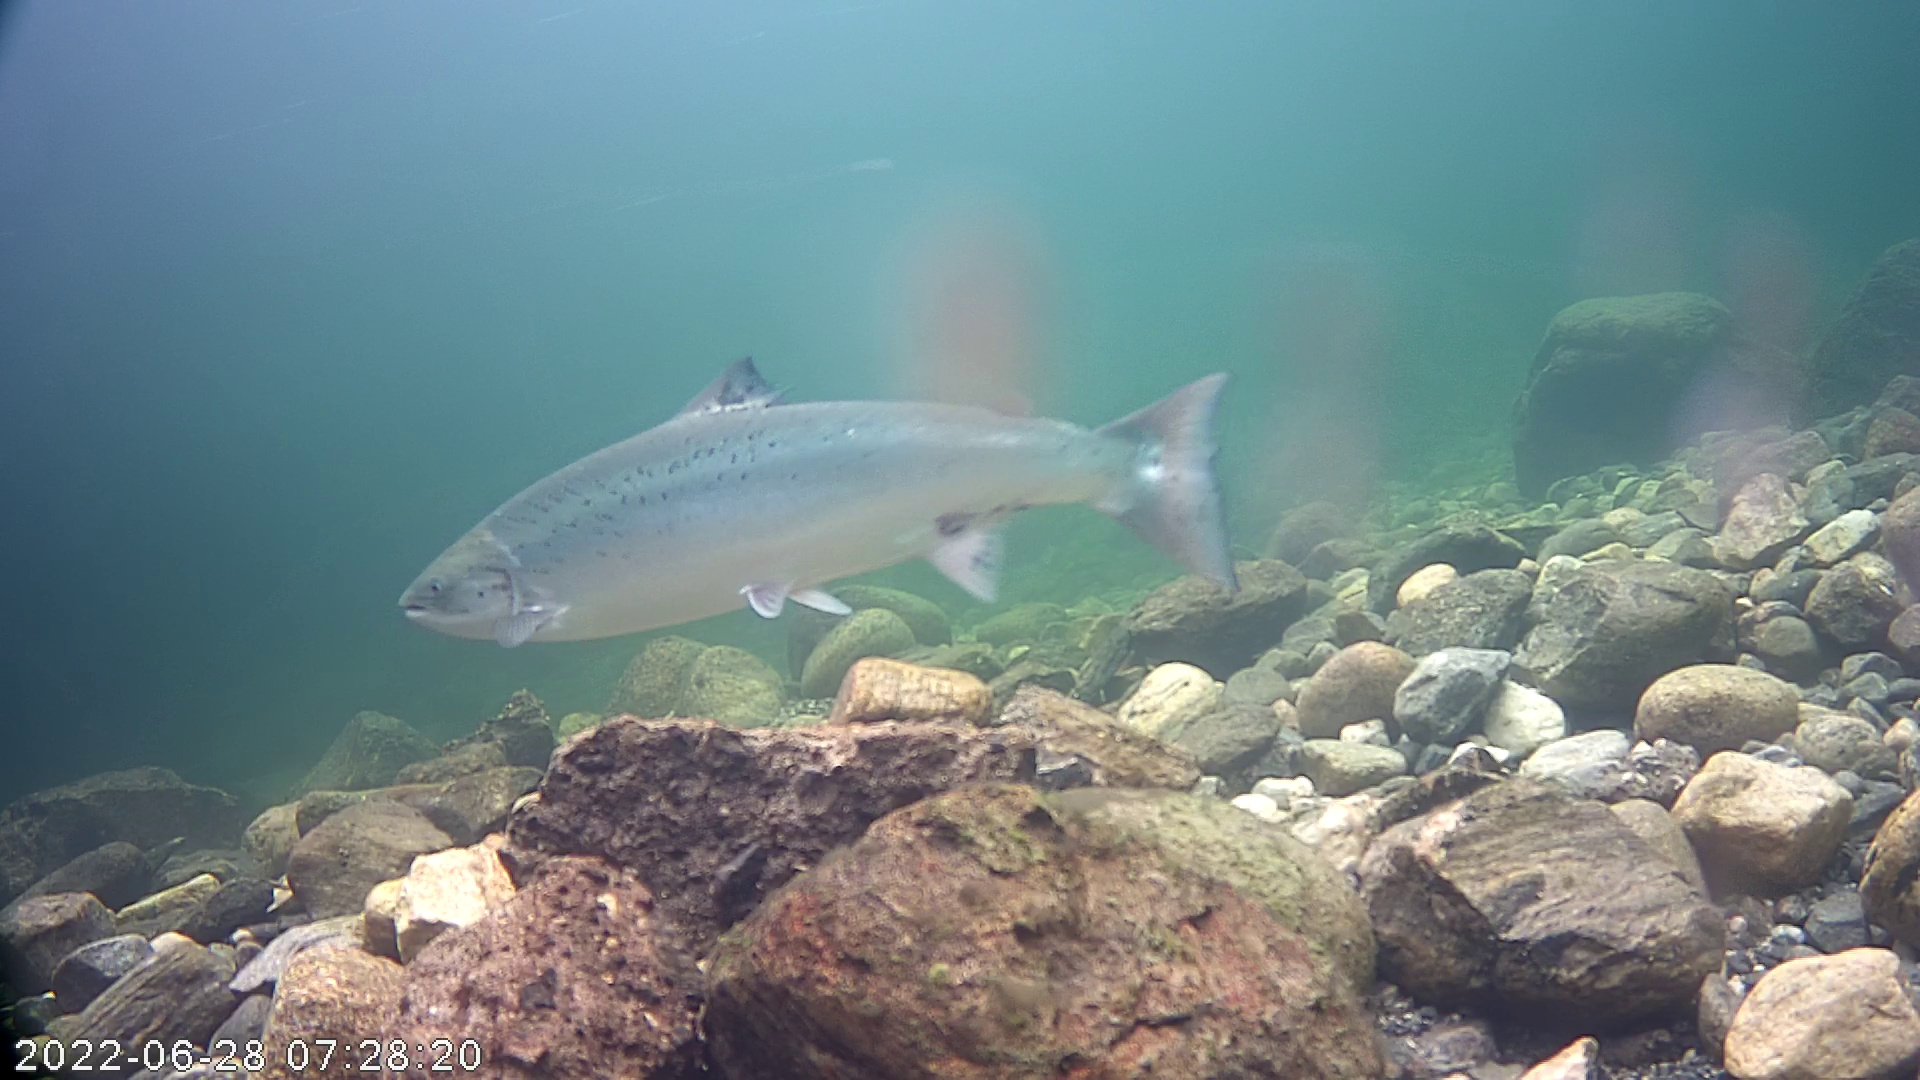salmon: (385, 261, 1284, 688)
